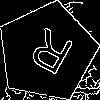R: (21, 27, 76, 84)
